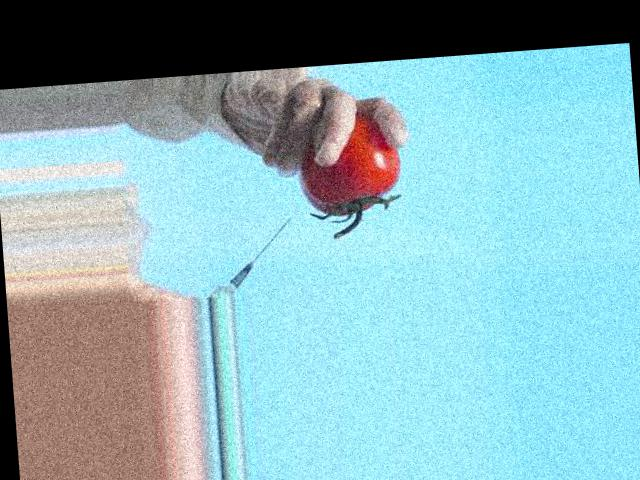tomato: (296, 111, 404, 218)
